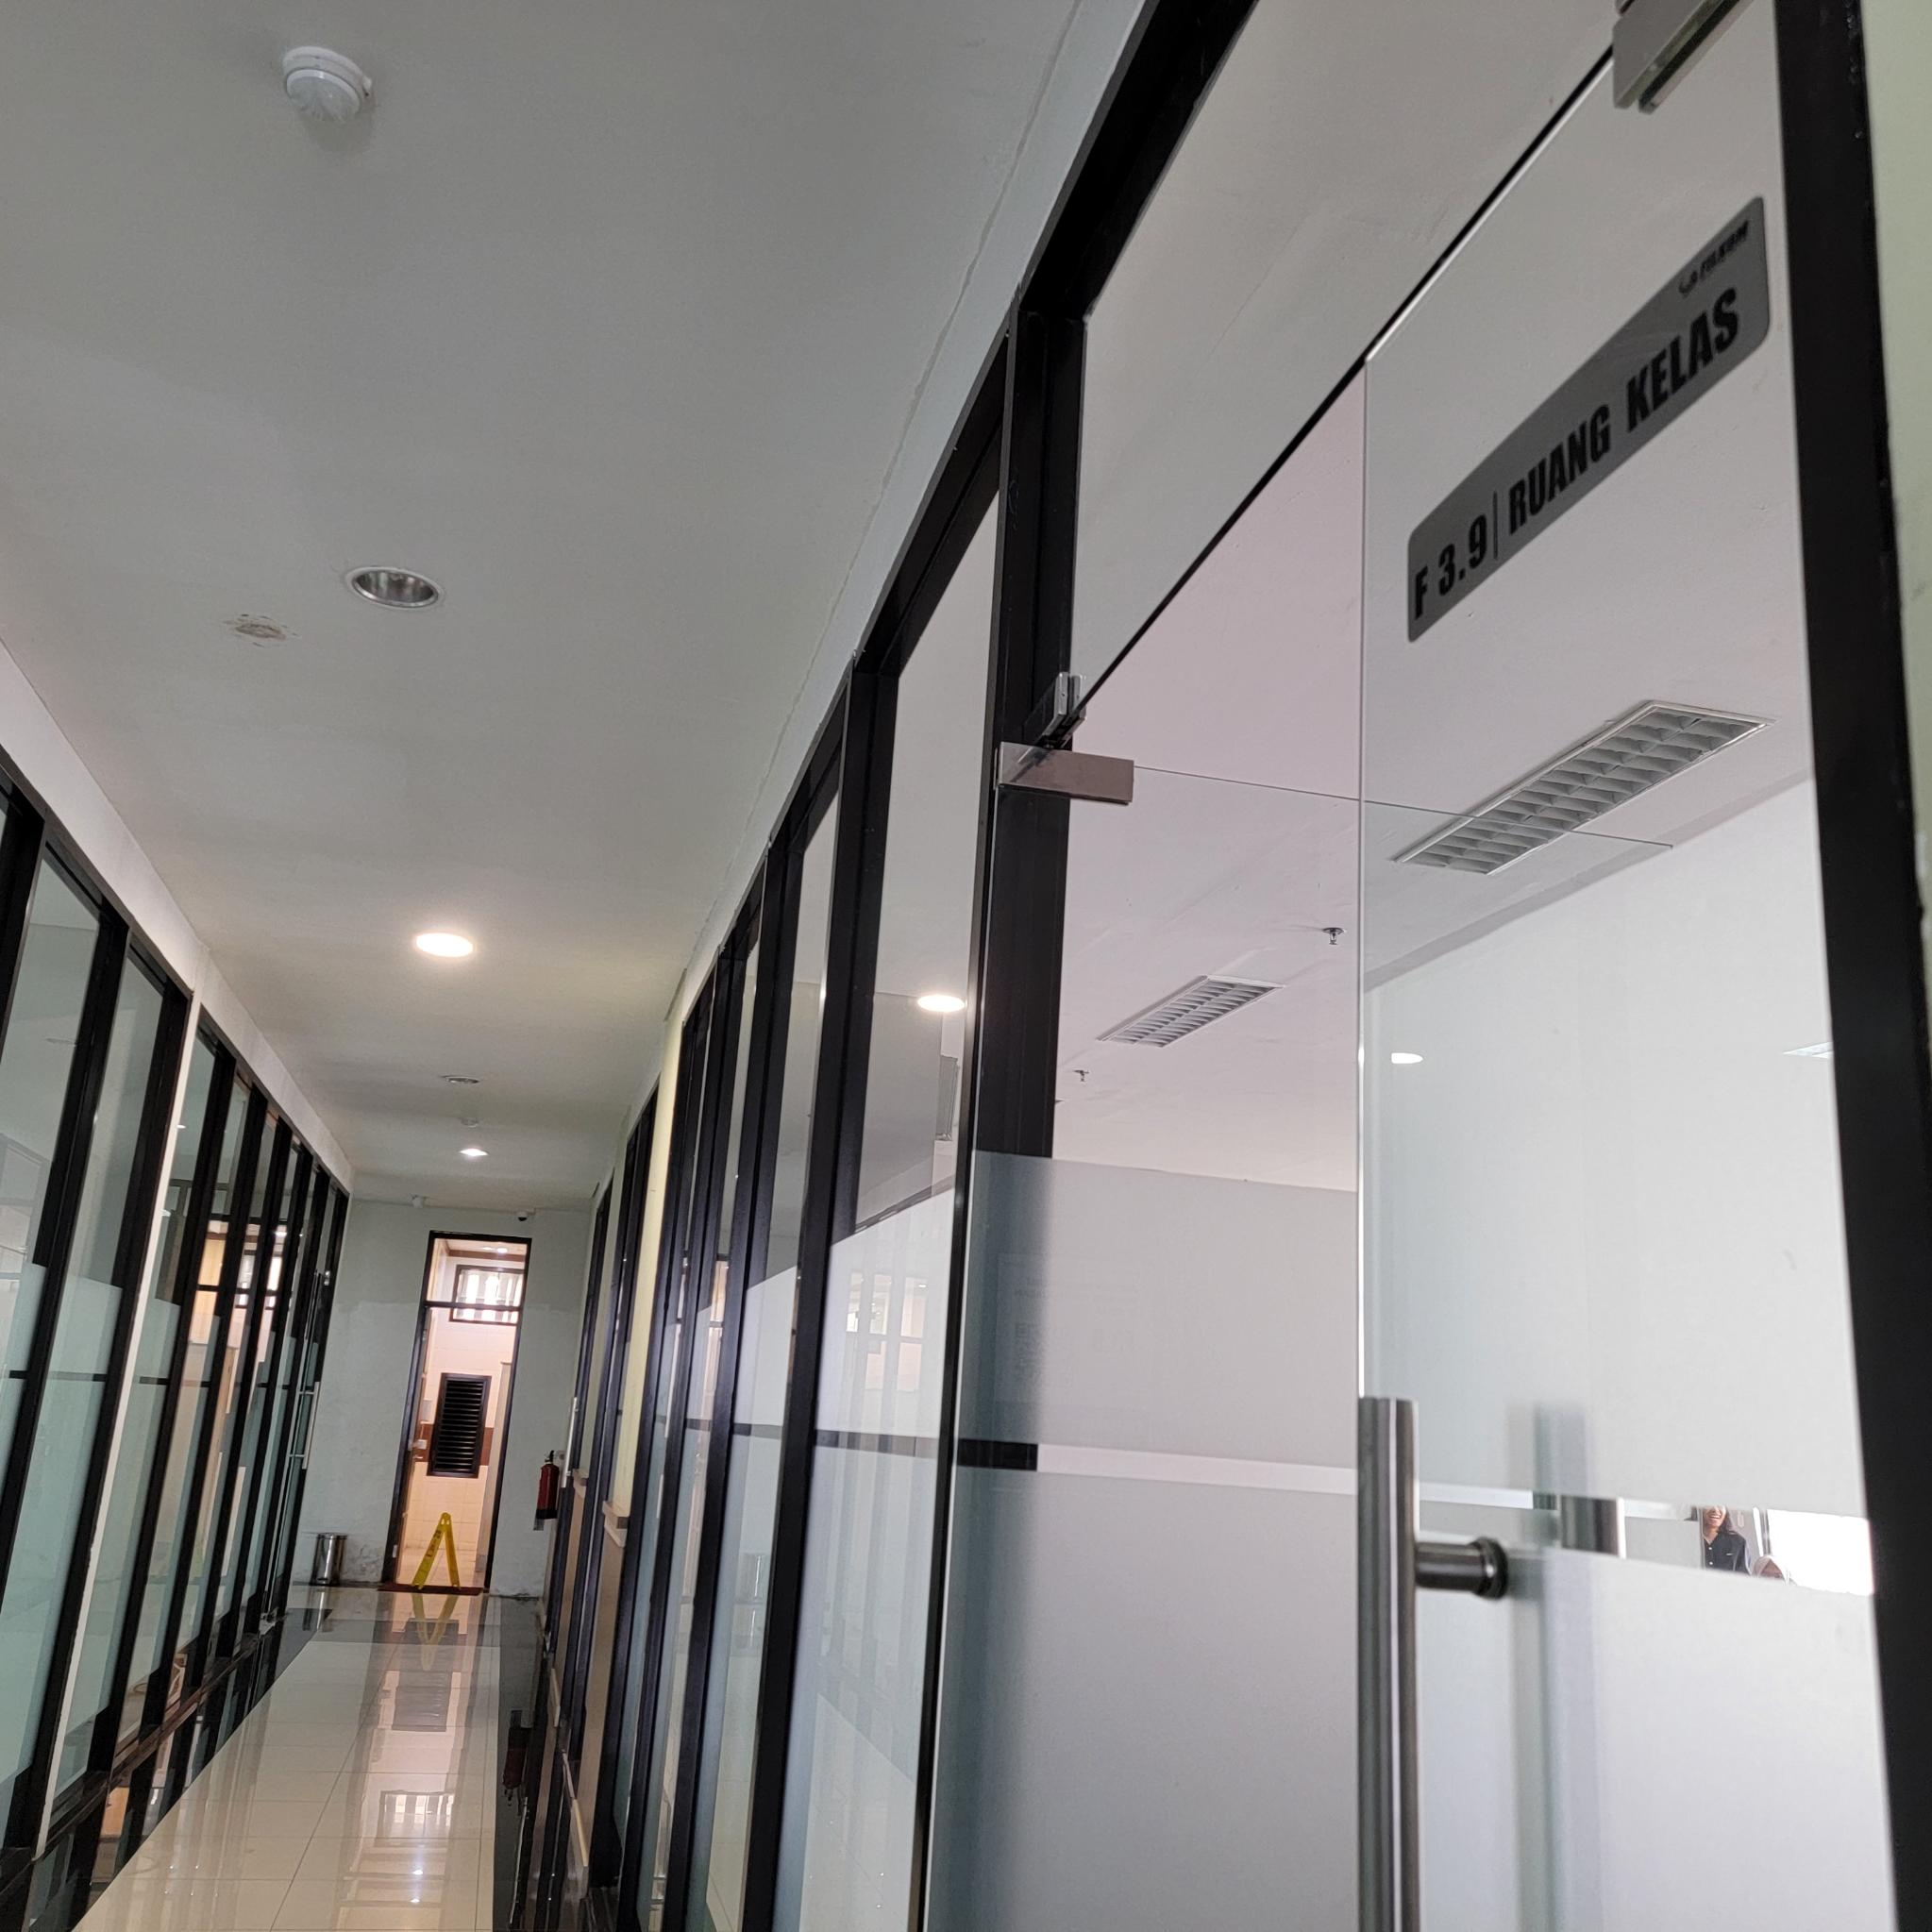plate: (1403, 196, 1771, 646)
